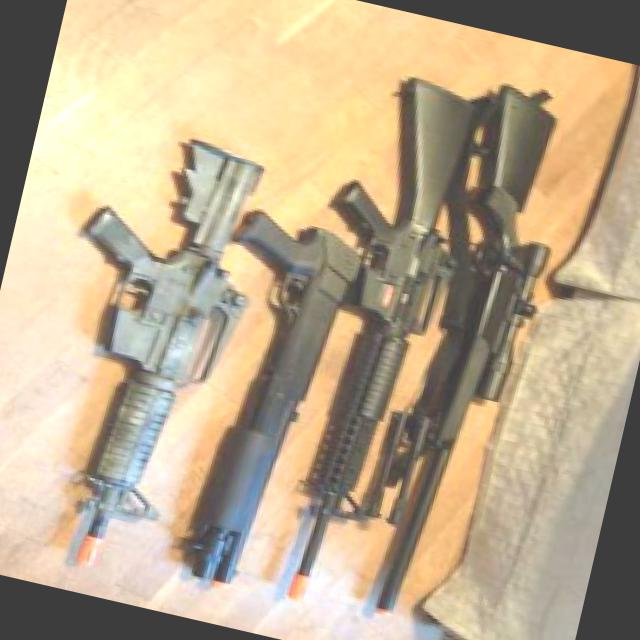long weapon: (9, 98, 292, 605), (346, 74, 592, 639), (258, 46, 495, 627), (173, 214, 370, 596)
